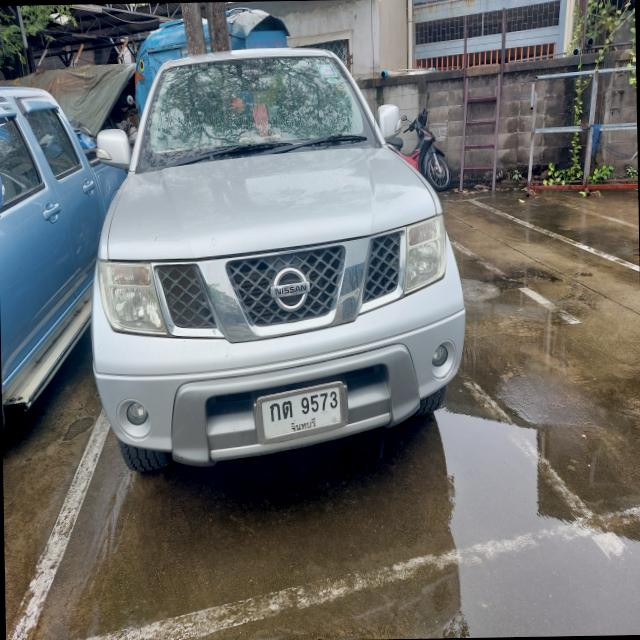license_plate: (254, 377, 348, 448)
